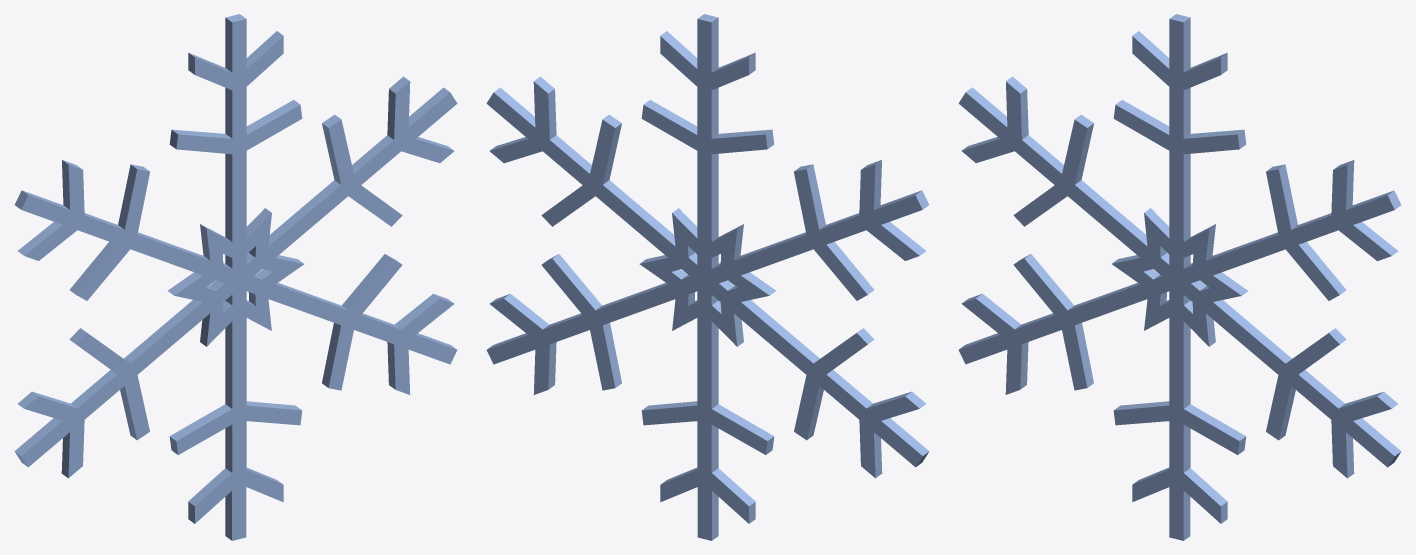
The model's file is snowflake-fab.glb.
3 renders of one model, left to right at view 1: azimuth 30°, elevation 25°; view 2: azimuth 150°, elevation 25°; view 3: azimuth 330°, elevation 25°, orthographic.
Parts seen in each view (by area): view 1: Plane; view 2: Plane; view 3: Plane.
Part boxes in pixels (x1,y1,x2,y2): Plane: (14, 14, 457, 540); Plane: (486, 14, 929, 540); Plane: (958, 14, 1401, 540).
Bounding box in the file's own units: 2.19 × 2.49 × 0.0586.
